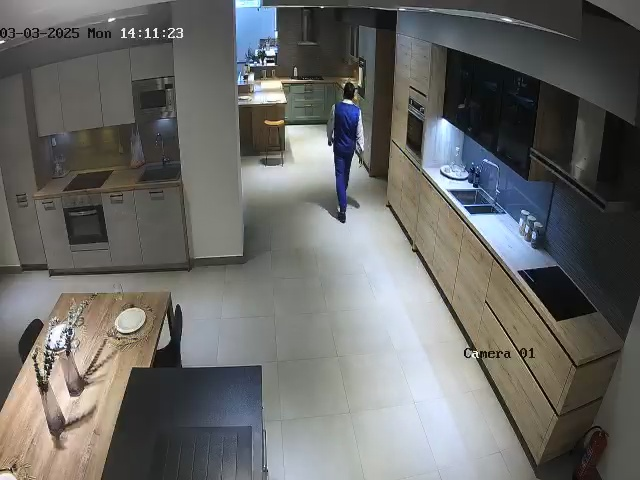employee: (326, 82, 365, 224)
